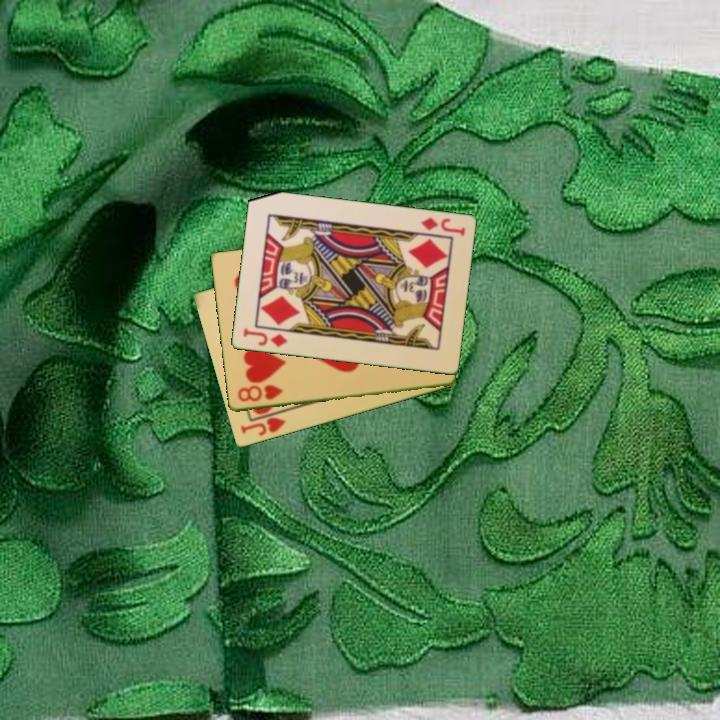8h: (234, 381, 285, 405)
Jd: (239, 325, 290, 350), (417, 214, 468, 239)
Jh: (237, 414, 289, 439)
